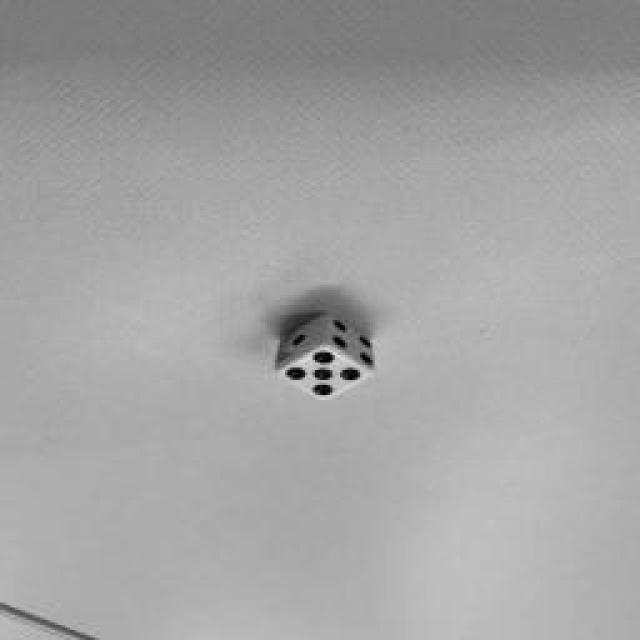dice_5: (275, 345, 370, 400)
